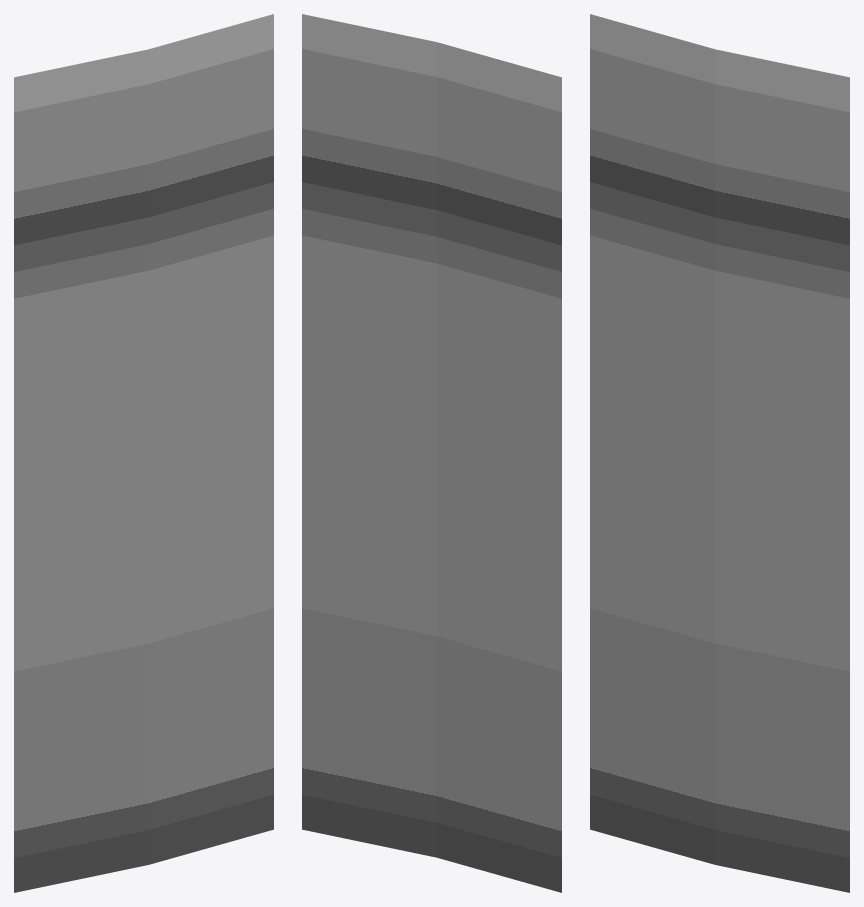
3 views of the same model, side by side, from view 1: azimuth 30°, elevation 25°; view 2: azimuth 150°, elevation 25°; view 3: azimuth 330°, elevation 25° (orthographic).
Bounding box in the file's own units: 1 × 3 × 0.0327.
1 material, 1 textured.
